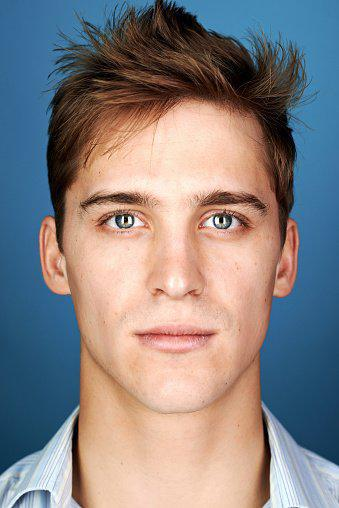Sober: (77, 111, 268, 393)
